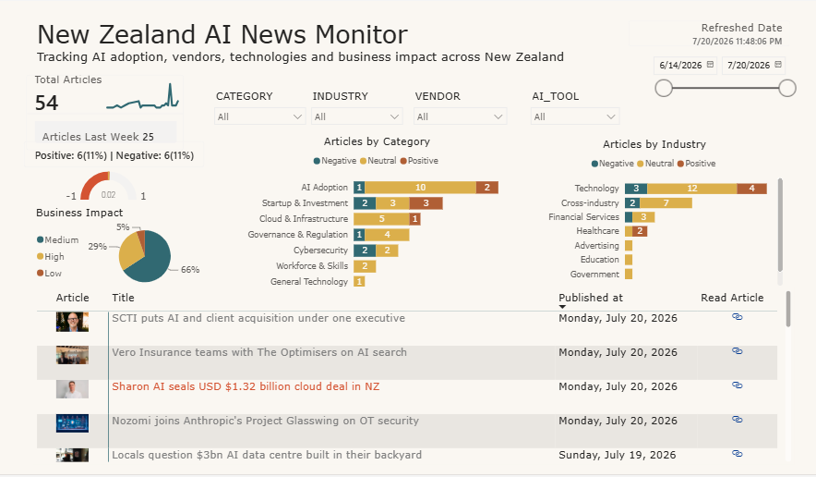

This screenshot's page, from the dashboard's own definition file:
{"tool":"powerbi","page":{"name":"Page 1","canvas":[1280,720],"ordinal":0},"visuals":[{"type":"barChart","title":"Articles by Category","fields":{"Category":["Fact News Articles.AI_CATEGORY"],"Y":["CountNonNull(Fact News Articles.ARTICLE_KEY)"],"Series":["Fact News Articles.SENTIMENT_LABEL"]},"box":[371.3,203.3,446.1,248.5],"z":0},{"type":"barChart","title":"Articles by Industry","fields":{"Y":["CountNonNull(Fact News Articles.ARTICLE_KEY)"],"Category":["Fact News Articles.INDUSTRY"],"Series":["Fact News Articles.SENTIMENT_LABEL"]},"box":[817.4,207.5,399.5,230.1],"z":1000},{"type":"cardVisual","fields":{"Data":["Dax Measures.Total Articles"]},"box":[42.4,94.9,274.6,149.6],"z":2000},{"type":"lineChart","title":"Total Articles","fields":{"Category":["Date.Date"],"Y2":["CountNonNull(Fact News Articles.ARTICLE_KEY)"]},"box":[167.6,101.9,137.7,68.9],"z":3000},{"type":"gauge","title":"Sentiment Score","fields":{"Y":["Avg(Fact News Articles.SENTIMENT_SCORE)"],"TargetValue":["Dax Measures.Sentiment Neutral"],"MinValue":["Dax Measures.Sentiment Negative"],"MaxValue":["Dax Measures.Sentiment Positive"]},"box":[81.9,254.1,197.6,57.9],"z":4000},{"type":"pivotTable","fields":{"Rows":["Fact News Articles.IMAGE_URL"],"Values":["Min(Fact News Articles.TITLE)","Min(Fact News Articles.PUBLISHED_DATE)","Min(Fact News Articles.ARTICLE_URL)"]},"box":[70.6,434.8,1159.1,271.1],"z":5000},{"type":"textbox","box":[70.4,22.5,925.1,80.4],"z":6000},{"type":"slicer","fields":{"Values":["Date.Date"]},"box":[1001.7,73.6,237.9,75.1],"z":7000},{"type":"cardVisual","fields":{"Data":["Dax Measures.Refreshed Date"]},"box":[959.5,12.7,280.2,73.6],"z":8000},{"type":"cardVisual","fields":{"Data":["Dax Measures.Sentiment Outcomes"]},"box":[50.8,207.5,285.2,50.8],"z":9000},{"type":"slicer","fields":{"Values":["Fact News Articles.AI_CATEGORY"]},"box":[335.8,129.3,161.2,65.7],"z":10000},{"type":"slicer","fields":{"Values":["Fact News Articles.VENDOR"]},"box":[639.2,129.3,162.8,78.3],"z":11000},{"type":"slicer","fields":{"Values":["Fact News Articles.INDUSTRY"]},"box":[482.7,129.3,161.2,81.4],"z":12000},{"type":"slicer","fields":{"Values":["Fact News Articles.AI_TOOL"]},"box":[817.9,129.3,156.5,65.7],"z":13000},{"type":"pieChart","title":"Business Impact","fields":{"Category":["Fact News Articles.BUSINESS_IMPACT"],"Y":["CountNonNull(Fact News Articles.ARTICLE_KEY)"]},"box":[70.1,311.4,266.3,133.9],"z":14000}]}

Visuals, with their boxes on the page's 1280x720 design canvas (x1, y1, x2, y2). These are canvas units, not pixel positions in the 816x477 screenshot, which may show the page scaled, cropped or inside an application window:
"Articles by Category" barChart: crop(371, 203, 817, 452)
"Articles by Industry" barChart: crop(817, 208, 1217, 438)
cardVisual - Dax Measures.Total Articles: crop(42, 95, 317, 244)
"Total Articles" lineChart: crop(168, 102, 305, 171)
"Sentiment Score" gauge: crop(82, 254, 280, 312)
pivotTable - Fact News Articles.IMAGE_URL x Min(Fact News Articles.TITLE): crop(71, 435, 1230, 706)
textbox: crop(70, 22, 996, 103)
slicer - Date.Date: crop(1002, 74, 1240, 149)
cardVisual - Dax Measures.Refreshed Date: crop(960, 13, 1240, 86)
cardVisual - Dax Measures.Sentiment Outcomes: crop(51, 208, 336, 258)
slicer - Fact News Articles.AI_CATEGORY: crop(336, 129, 497, 195)
slicer - Fact News Articles.VENDOR: crop(639, 129, 802, 208)
slicer - Fact News Articles.INDUSTRY: crop(483, 129, 644, 211)
slicer - Fact News Articles.AI_TOOL: crop(818, 129, 974, 195)
"Business Impact" pieChart: crop(70, 311, 336, 445)
